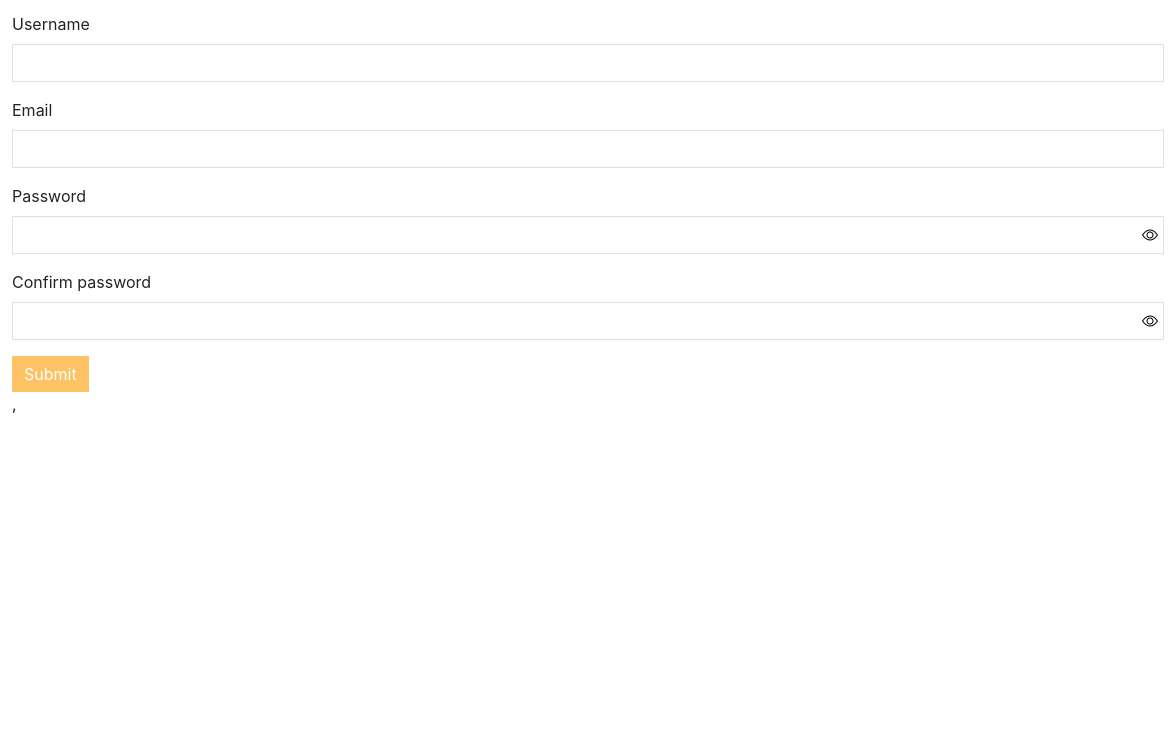
Scenario: Register Form › should display an error message for a password less than 8 characters long
In the field labelled "Username": (588, 63) [12,44,1164,82], type "user"
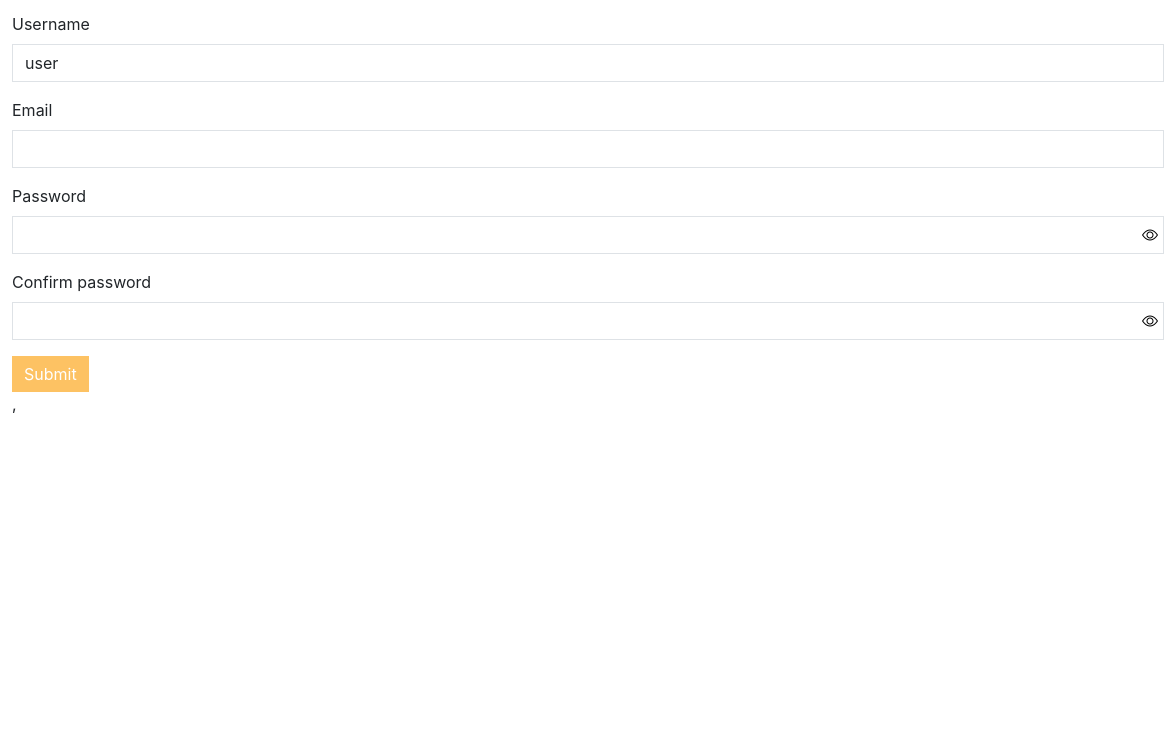
In the field labelled "Email": (588, 149) [12,130,1164,168], type "a@a.pl"
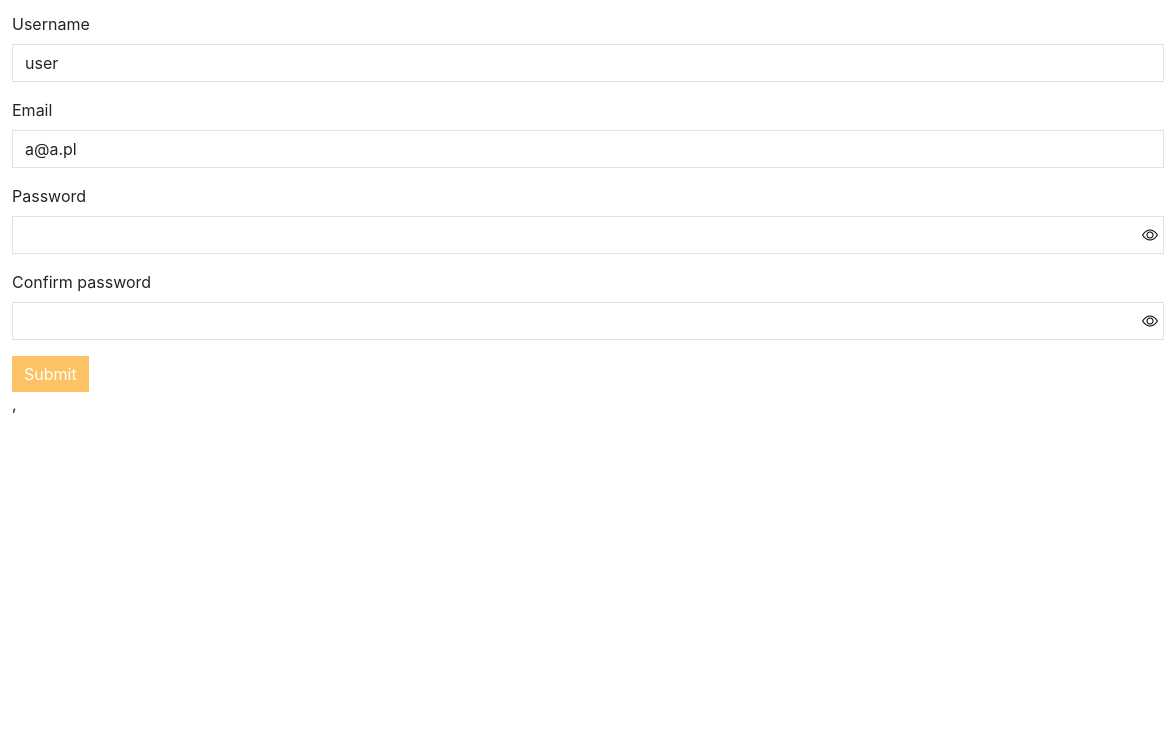
In the password field labelled "Password": (588, 235) [12,216,1164,254], type "Pa$$"
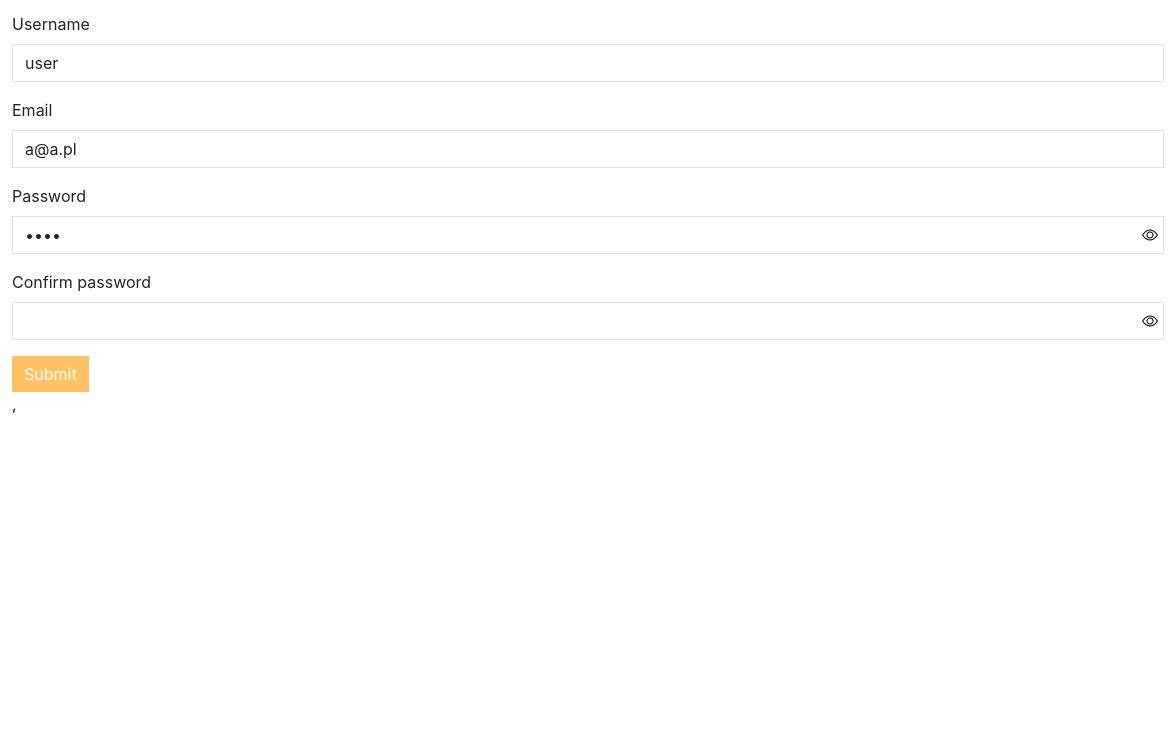
In the password field labelled "Confirm password": (588, 321) [12,302,1164,340], type "Pa$$w0rd"
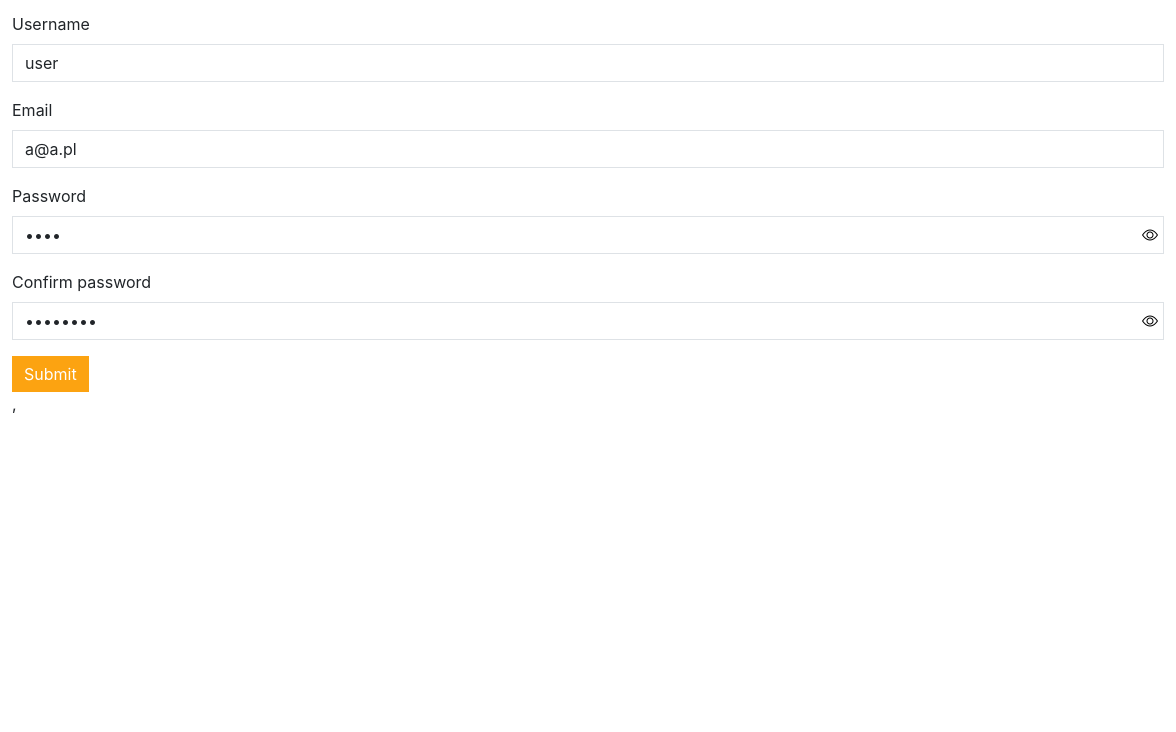
Click the button "Submit": click(50, 374) [12,356,89,392]
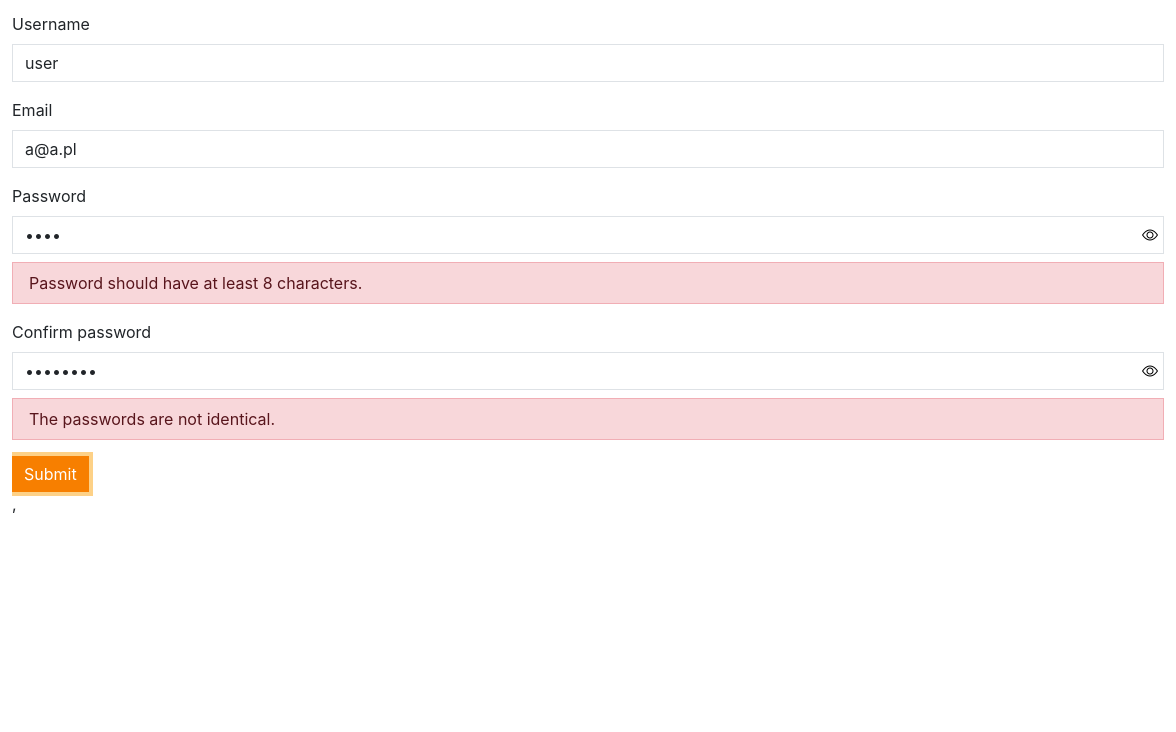
Expected: the text "Password should have at least 8 characters." is shown, [12,262,1164,304]
